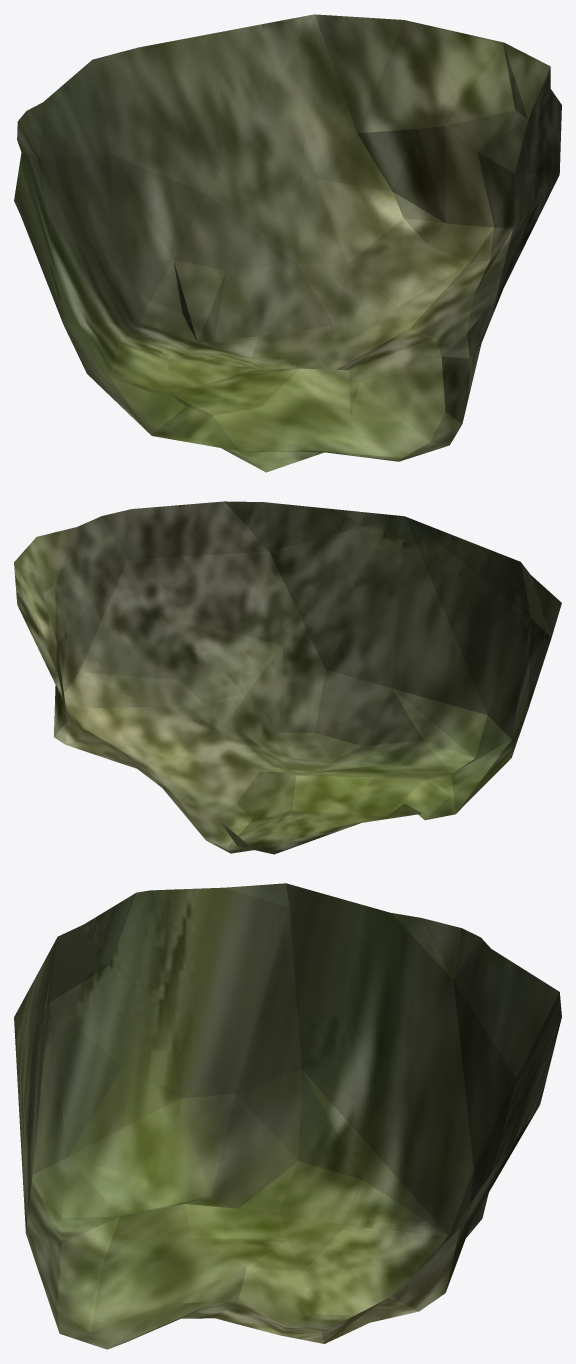
3 views of the same model, one above another, from view 1: azimuth 30°, elevation 25°; view 2: azimuth 150°, elevation 25°; view 3: azimuth 270°, elevation 25° (orthographic). The views are drawn at different scales.
Bounding box in the file's own units: 1.77 × 0.8303 × 1.42.
1 material, 1 textured.
